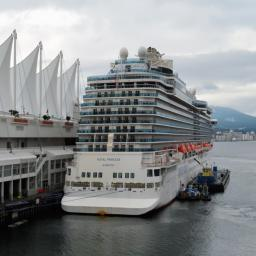cruises: (60, 46, 218, 221)
